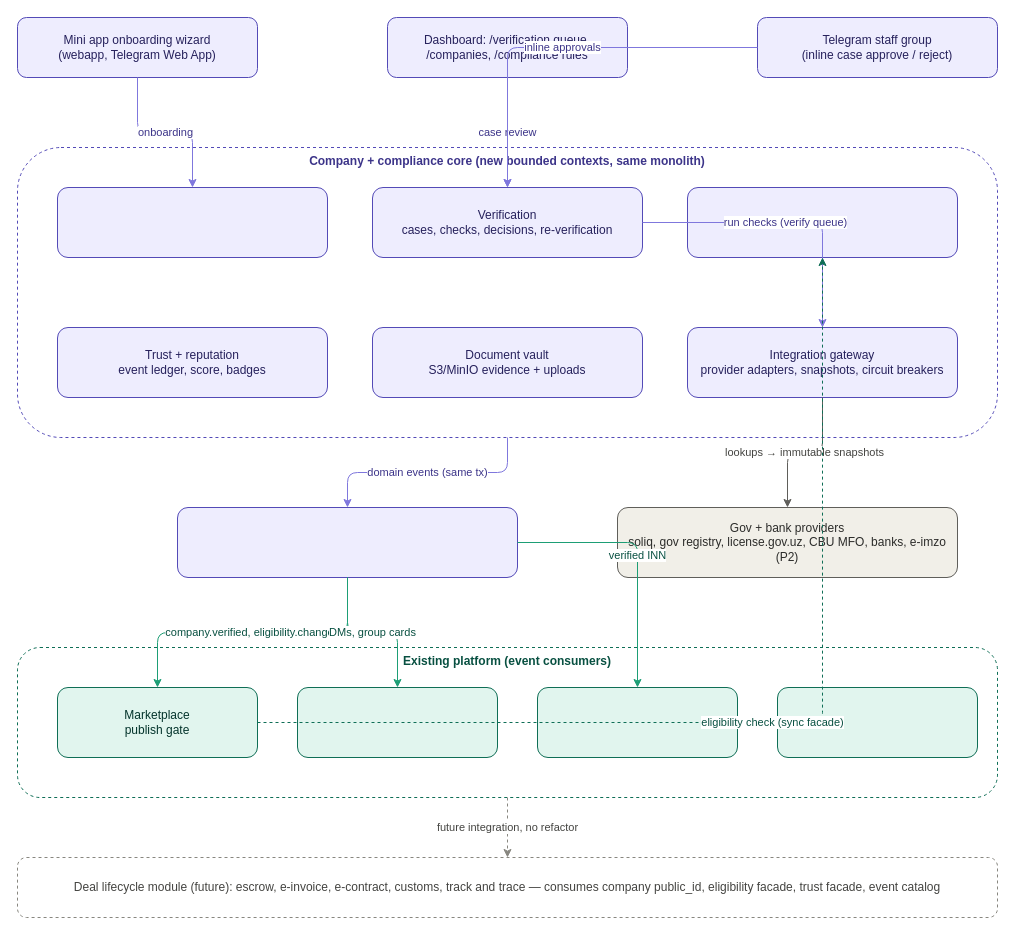
This 1015x935 diagram has some shape labels left out. Each missing label, with the centre of its shape:
"Company registry companies, members, business roles" goes at (x=192, y=222).
"Compliance + licensing license catalog, requirement rules, eligibility" goes at (x=822, y=222).
"Counterparty graph verified INN enrichment" goes at (x=637, y=722).
"Domain events outbox (same-transaction write, Celery dispatch, Kafka-ready)" goes at (x=347, y=542).
"Notify queue bot DMs + staff group" goes at (x=397, y=722).
"Signals + news unchanged" goes at (x=877, y=722).
